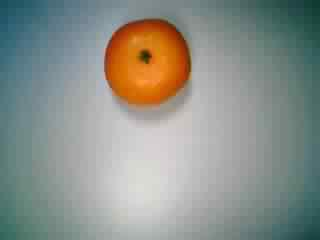orange: (100, 15, 195, 107)
